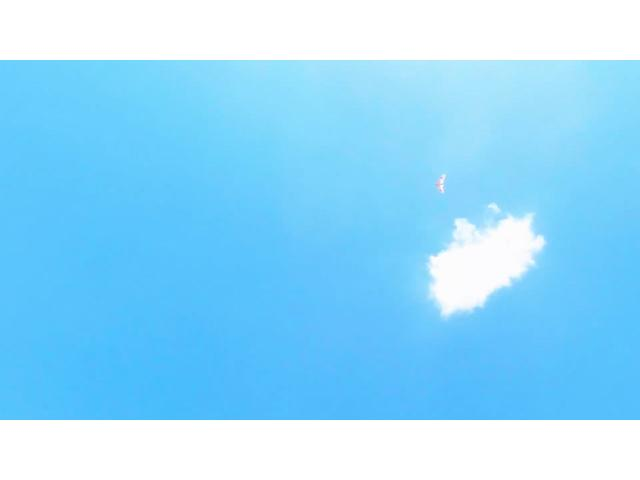Anti-Drone: (430, 164, 452, 199)
